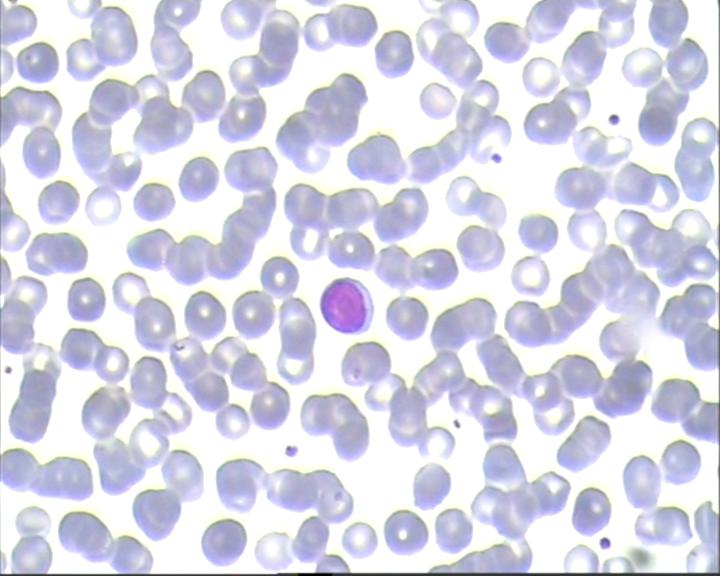lymp: (316, 273, 379, 340)
